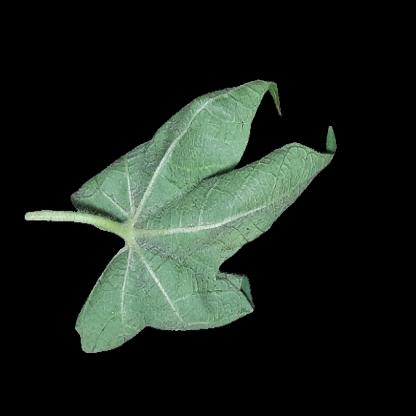curl_stage2: (123, 160, 235, 249), (116, 260, 214, 328), (178, 110, 243, 160), (89, 182, 136, 227), (239, 172, 303, 205), (213, 273, 247, 322), (85, 301, 121, 347)
